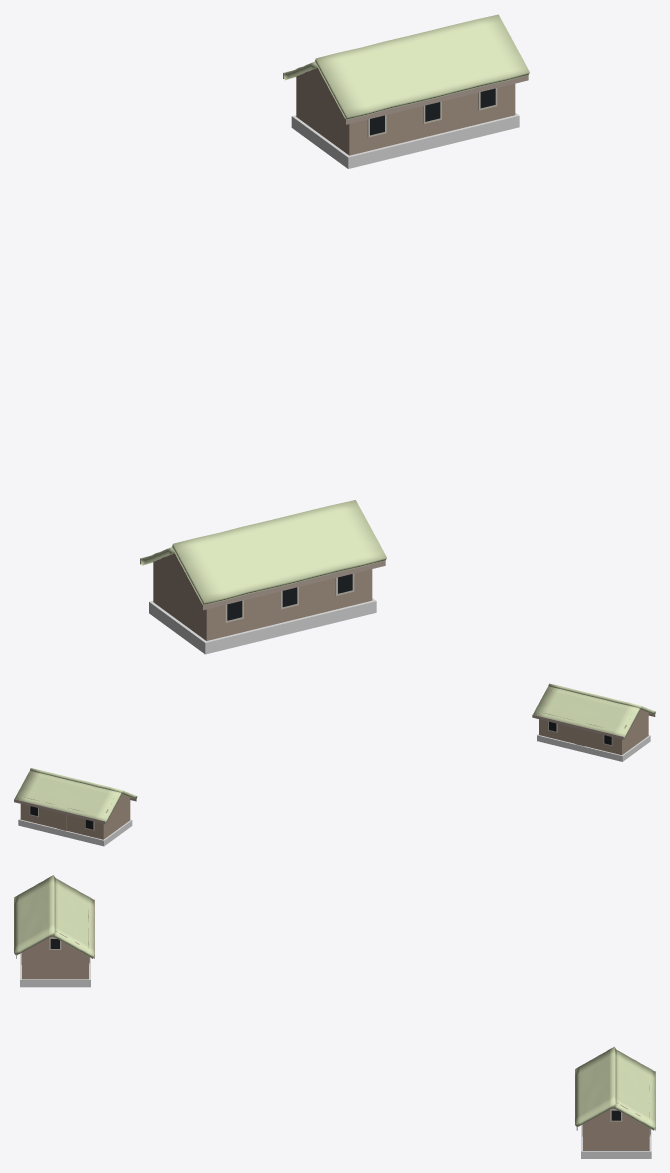
Rendered from village_naust.glb.
3 renders of one model, top to bottom at view 1: azimuth 30°, elevation 25°; view 2: azimuth 150°, elevation 25°; view 3: azimuth 270°, elevation 25°, orthographic. The views are drawn at different scales.
Visible parts, largest first — view 1: village; view 2: village; view 3: village.
Boxes of the visible parts, x1,y1,x2,y2 form: village: (140,14,529,654); village: (14,683,655,846); village: (14,875,655,1158).
Size of the model in its own units: 41.91 by 5.55 by 48.07.
